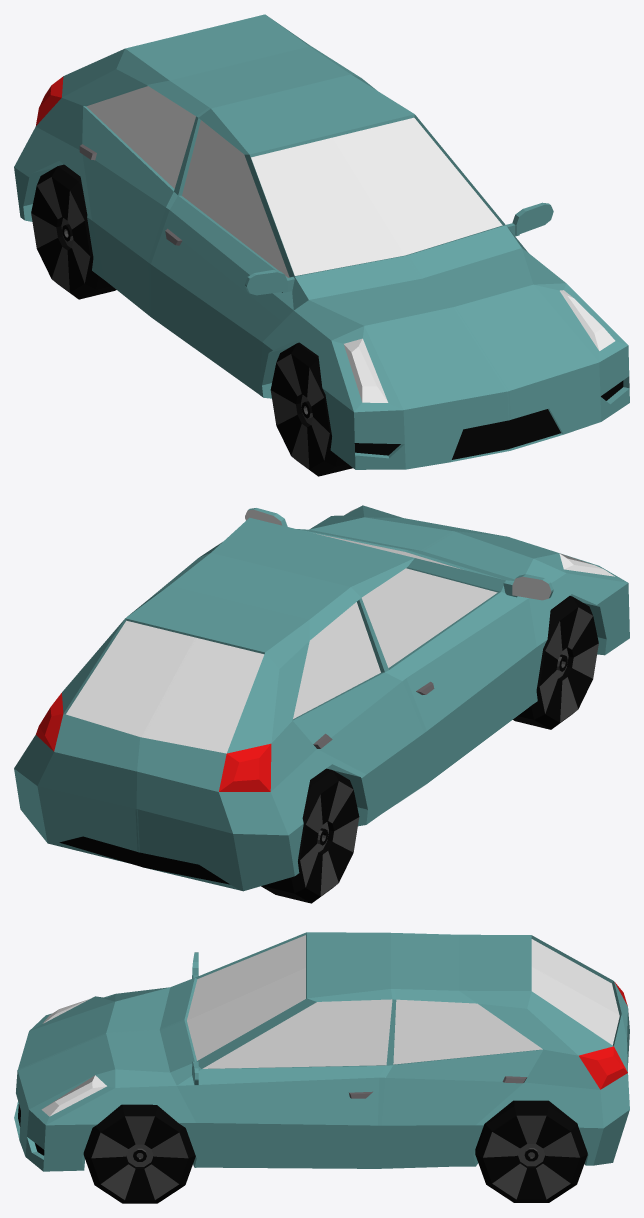
The picture shows the model from 3 angles, top to bottom: view 1: azimuth 30°, elevation 25°; view 2: azimuth 150°, elevation 25°; view 3: azimuth 270°, elevation 25°; orthographic projection. The views are drawn at different scales.
Parts seen in each view (by area): view 1: Body, R_R_Wheel, F_R_Wheel; view 2: Body, R_R_Wheel, F_R_Wheel; view 3: Body, R_L_Wheel, F_L_Wheel.
Boxes of the visible parts, x1=… form: Body: x1=14, y1=14, x2=629, y2=469; R_R_Wheel: x1=31, y1=164, x2=116, y2=299; F_R_Wheel: x1=270, y1=342, x2=352, y2=476; Body: x1=14, y1=505, x2=629, y2=891; R_R_Wheel: x1=261, y1=768, x2=359, y2=903; F_R_Wheel: x1=513, y1=596, x2=598, y2=729; Body: x1=14, y1=932, x2=629, y2=1171; R_L_Wheel: x1=475, y1=1100, x2=587, y2=1202; F_L_Wheel: x1=83, y1=1104, x2=195, y2=1203.
Size of the model in its own units: 293 by 213 by 621.
